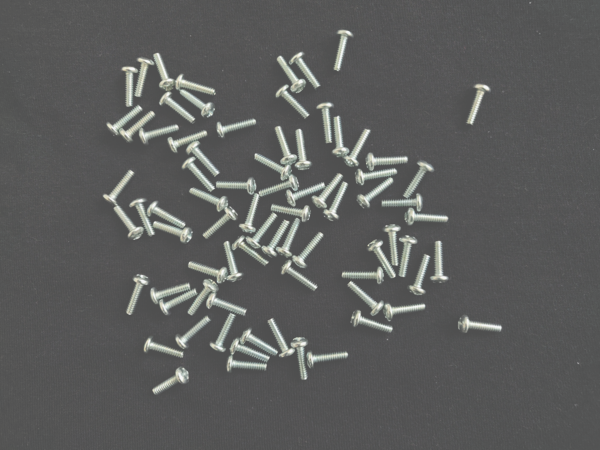shortscrew: (347, 282, 385, 317), (275, 84, 311, 120), (289, 50, 322, 89), (356, 177, 395, 210), (231, 234, 270, 266), (181, 157, 215, 193), (203, 207, 239, 241), (186, 140, 219, 177), (292, 232, 324, 270), (403, 160, 434, 199), (366, 239, 396, 279), (311, 174, 343, 211), (281, 260, 319, 291), (342, 129, 371, 169), (102, 171, 134, 207), (246, 213, 278, 249), (158, 289, 199, 317), (268, 318, 296, 359), (188, 280, 219, 317), (152, 367, 190, 397), (206, 291, 248, 318), (176, 317, 210, 350), (120, 112, 155, 144), (277, 56, 307, 93), (107, 106, 142, 137), (180, 90, 216, 120), (209, 314, 236, 354), (255, 153, 292, 182), (130, 198, 156, 239), (323, 182, 349, 223), (262, 220, 290, 258), (241, 328, 279, 356), (466, 84, 491, 126), (115, 206, 145, 241), (147, 201, 187, 227), (350, 310, 393, 334), (126, 275, 151, 316), (332, 28, 355, 72), (190, 188, 230, 213), (230, 338, 270, 363), (167, 131, 208, 155), (153, 221, 194, 245), (285, 183, 325, 207), (143, 336, 186, 358), (459, 315, 504, 336), (149, 283, 190, 306), (175, 74, 217, 96), (224, 241, 245, 285), (275, 126, 298, 166), (398, 235, 419, 278), (188, 262, 229, 284), (153, 53, 176, 92), (260, 176, 300, 198), (216, 118, 257, 139), (139, 125, 179, 146), (216, 178, 257, 198), (384, 302, 425, 322), (272, 203, 313, 223), (239, 195, 260, 234), (430, 241, 449, 284), (291, 337, 310, 380), (355, 167, 398, 186), (383, 224, 402, 266), (405, 208, 449, 226), (365, 153, 409, 171), (135, 57, 154, 98), (316, 101, 334, 144), (306, 351, 349, 369), (332, 116, 350, 158), (342, 267, 384, 285), (226, 356, 267, 374), (295, 129, 312, 172), (381, 194, 423, 211), (122, 67, 139, 107)
